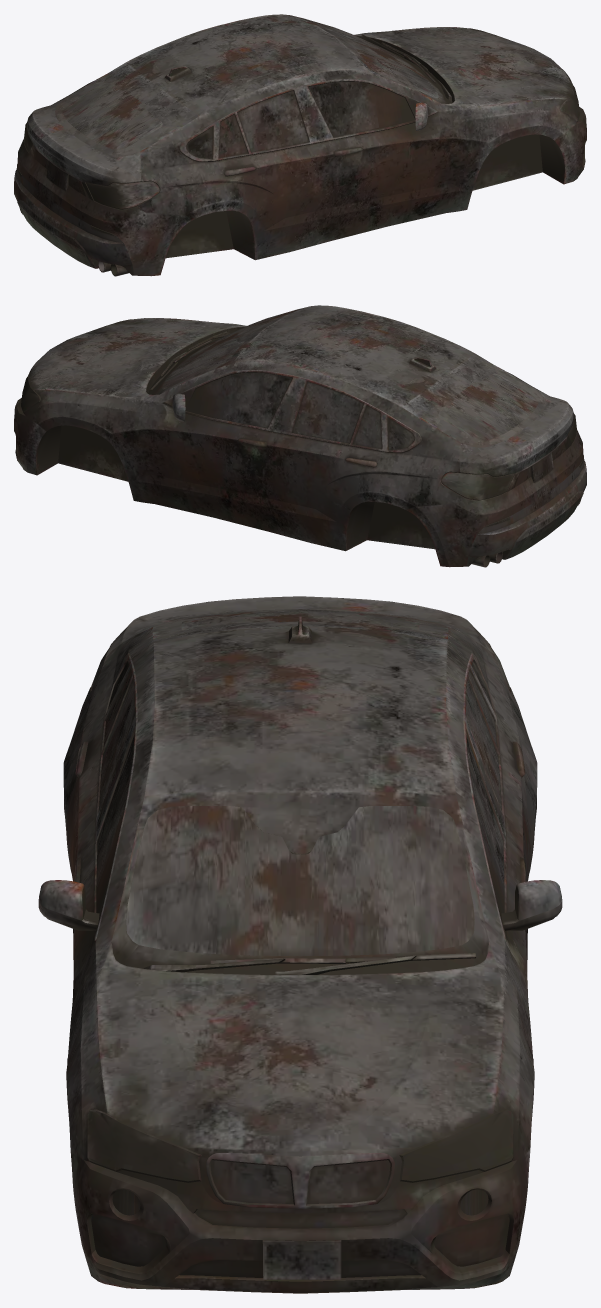
File: vrak_ohoreny.glb
The picture shows the model from 3 angles, top to bottom: view 1: azimuth 30°, elevation 25°; view 2: azimuth 150°, elevation 25°; view 3: azimuth 270°, elevation 25°; orthographic projection. The views are drawn at different scales.
Parts seen in each view (by area): view 1: Interior; view 2: Interior; view 3: Interior.
Boxes of the visible parts, x1,y1,x2,y2 form: Interior: (14,14,586,276); Interior: (14,305,586,567); Interior: (38,596,562,1293).
Bounding box in the file's own units: 4.7 × 1.42 × 2.07.
1 material, 1 textured.
